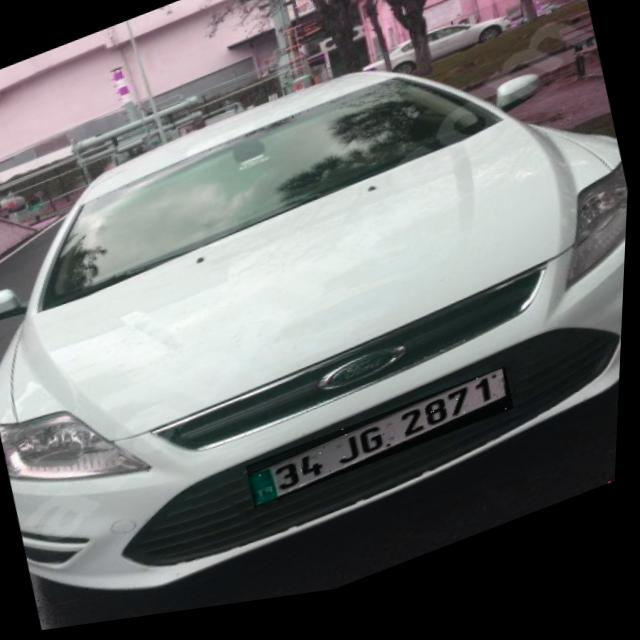license_plate: (249, 379, 522, 517)
